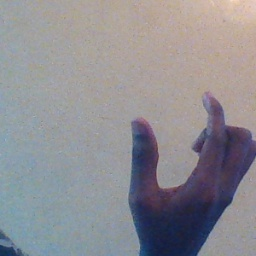U: (122, 88, 256, 247)
